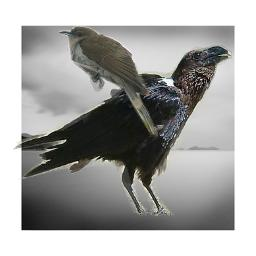Crow: (13, 45, 232, 216)
Cuckoo: (59, 26, 158, 138)
